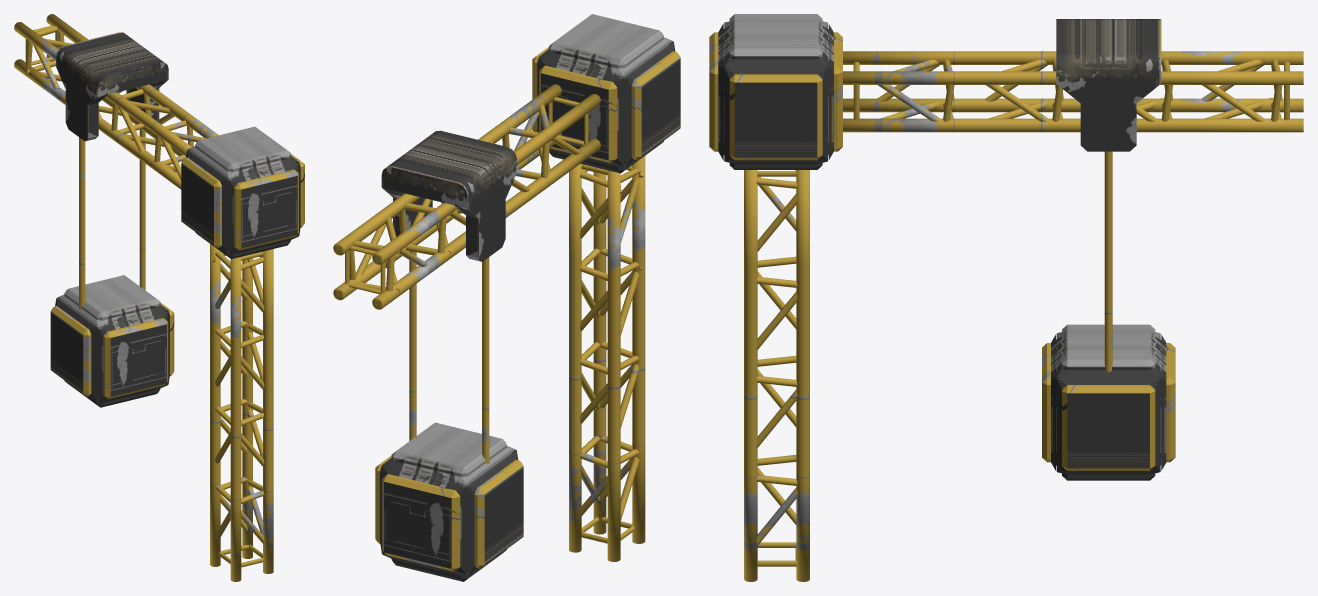
The model's file is Crane.fbx.
3 views of the same model, side by side, from view 1: azimuth 30°, elevation 25°; view 2: azimuth 150°, elevation 25°; view 3: azimuth 270°, elevation 25° (orthographic). The views are drawn at different scales.
Visible parts, largest first — view 1: Plane, Cube.007, Cube.009, Plane.001, Cube.006, Cylinder; view 2: Plane, Cube.009, Cube.007, Plane.001, Cube.006, Cylinder; view 3: Plane.001, Cube.007, Cube.009, Plane, Cube.006, Cylinder.
Part boxes in pixels (x1,y1,x2,y2): Plane: [210, 244, 273, 581]; Cube.007: [181, 126, 304, 259]; Cube.009: [50, 275, 174, 407]; Plane.001: [14, 14, 218, 189]; Cube.006: [56, 32, 168, 141]; Cylinder: [79, 129, 145, 309]; Plane: [569, 156, 645, 561]; Cube.009: [375, 422, 523, 581]; Cube.007: [532, 14, 680, 173]; Plane.001: [333, 84, 600, 309]; Cube.006: [381, 130, 516, 261]; Cylinder: [409, 251, 489, 464]; Plane.001: [843, 51, 1303, 132]; Cube.007: [709, 14, 842, 169]; Cube.009: [1042, 324, 1175, 480]; Plane: [744, 170, 809, 581]; Cube.006: [1056, 19, 1161, 151]; Cylinder: [1104, 151, 1112, 372].
Size of the model in its own units: 255 by 1131 by 1132.
